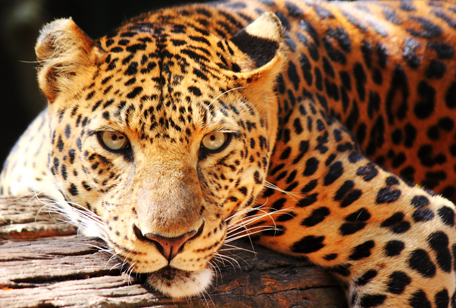amur_leopard: (23, 2, 302, 300)
